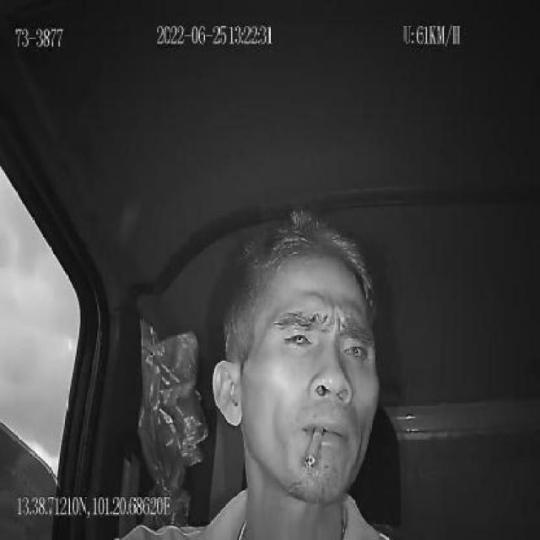smoking: (305, 425, 324, 468)
